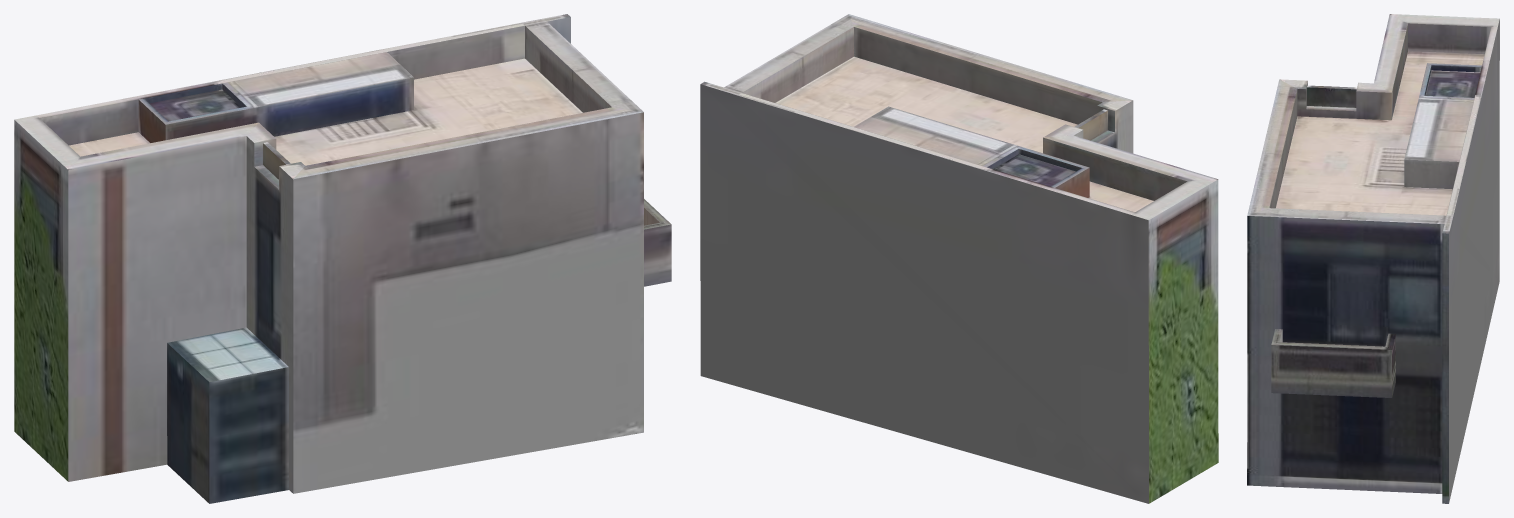
3 views of the same model, side by side, from view 1: azimuth 30°, elevation 25°; view 2: azimuth 150°, elevation 25°; view 3: azimuth 270°, elevation 25° (orthographic). The views are drawn at different scales.
Visible parts, largest first — view 1: B286374035301062A0; view 2: B286374035301062A0; view 3: B286374035301062A0.
Part boxes in pixels (x1,y1,x2,y2): B286374035301062A0: [14, 14, 671, 503]; B286374035301062A0: [700, 14, 1218, 503]; B286374035301062A0: [1247, 14, 1499, 503].
Size of the model in its own units: 16.17 by 9.1 by 7.71.
Materials: 1 (1 with a texture image).
